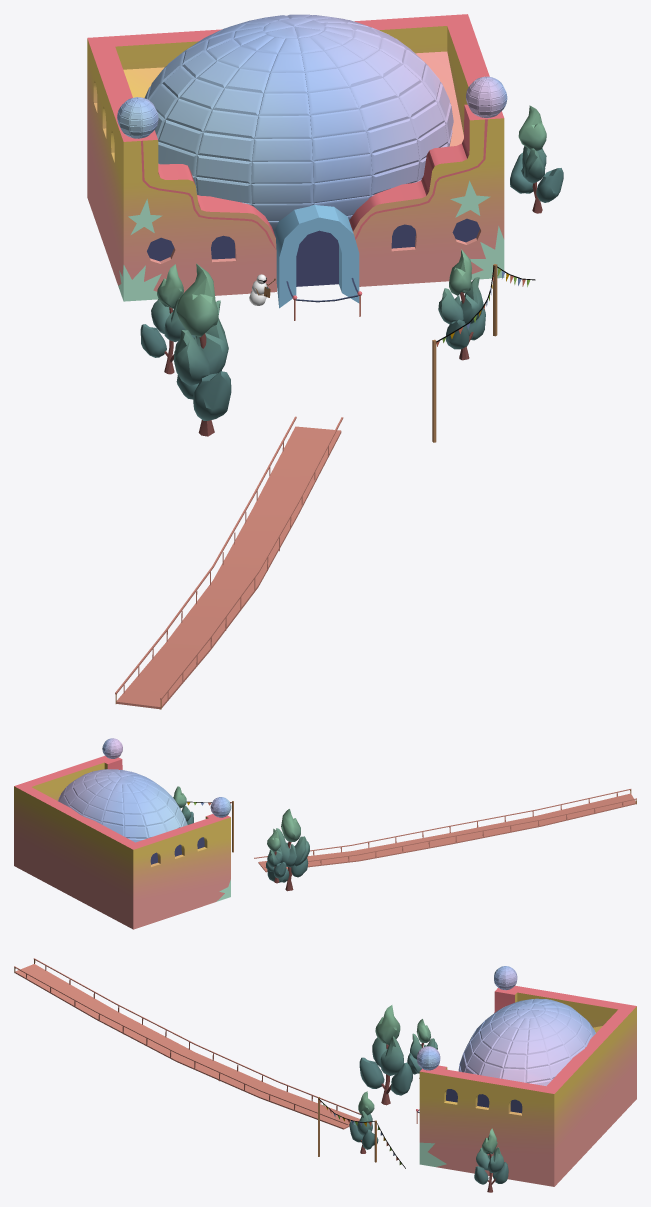
File: Neighborhood_PoomPoomPalace_03.fbx
3 views of the same model, one above another, from view 1: azimuth 30°, elevation 25°; view 2: azimuth 150°, elevation 25°; view 3: azimuth 270°, elevation 25° (orthographic). The views are drawn at different scales.
Parts seen in each view (by area): view 1: polySurface378, pasted__Object_Bridge, Tree_13, Tree_15, Tree_16, Tree_14; view 2: polySurface378, pasted__Object_Bridge, Tree_13, Tree_14, Tree_15; view 3: polySurface378, pasted__Object_Bridge, Tree_13, Tree_16, Tree_15, Tree_14, Object_Flag_01.
Part boxes in pixels (x1=…): polySurface378: x1=87, y1=14, x2=507, y2=308; pasted__Object_Bridge: x1=115, y1=416, x2=343, y2=709; Tree_13: x1=173, y1=263, x2=231, y2=436; Tree_15: x1=438, y1=249, x2=485, y2=360; Tree_16: x1=510, y1=105, x2=563, y2=213; Tree_14: x1=140, y1=264, x2=195, y2=374; polySurface378: x1=14, y1=738, x2=231, y2=929; pasted__Object_Bridge: x1=254, y1=789, x2=636, y2=872; Tree_13: x1=267, y1=809, x2=309, y2=891; Tree_14: x1=266, y1=828, x2=286, y2=883; Tree_15: x1=173, y1=786, x2=193, y2=824; polySurface378: x1=417, y1=966, x2=636, y2=1186; pasted__Object_Bridge: x1=14, y1=958, x2=361, y2=1129; Tree_13: x1=359, y1=1005, x2=412, y2=1105; Tree_16: x1=474, y1=1128, x2=508, y2=1192; Tree_15: x1=349, y1=1091, x2=378, y2=1153; Tree_14: x1=407, y1=1019, x2=437, y2=1078; Object_Flag_01: x1=318, y1=1098, x2=405, y2=1168.
Bounding box in the file's own units: 3335 × 1049 × 3727.
